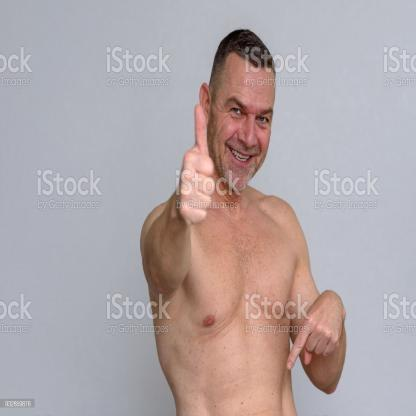Thumbs-Up: (180, 102, 214, 246)
